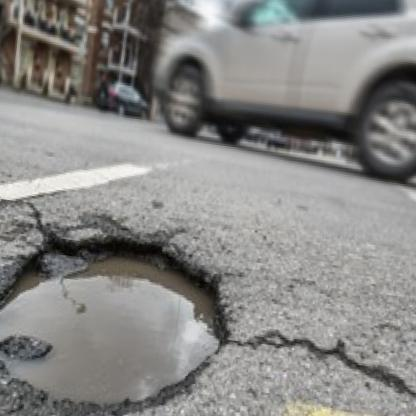pothole: (0, 207, 244, 416)
